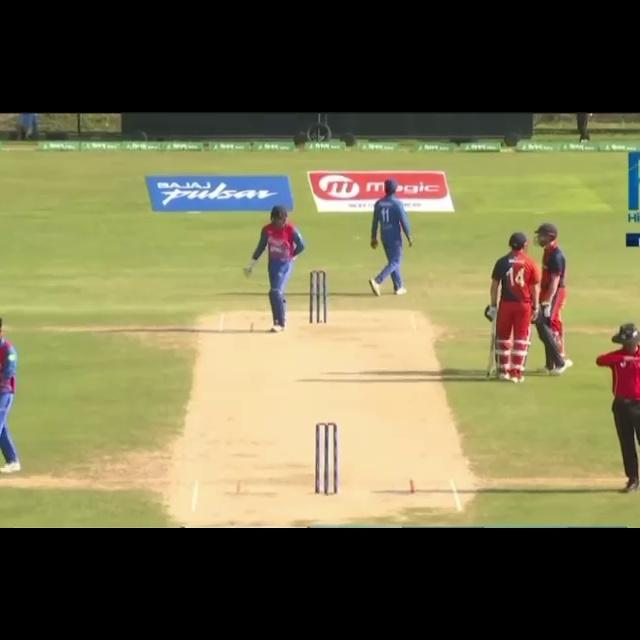umpire: (587, 317, 640, 494)
